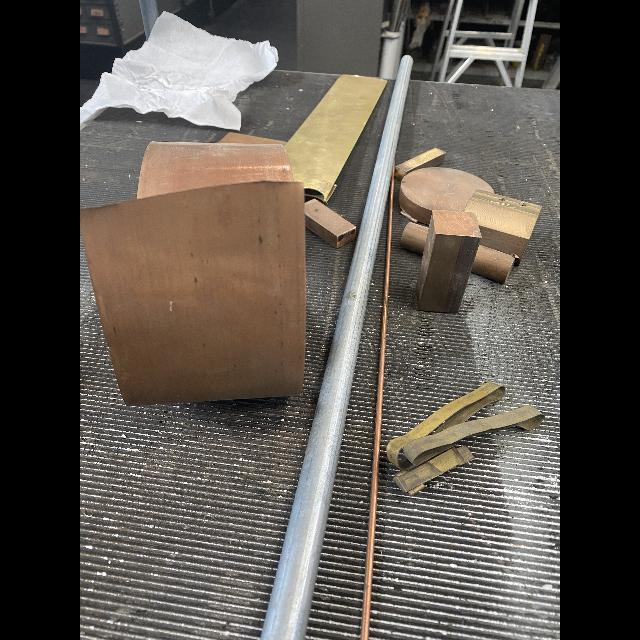Brass: (386, 381, 545, 495), (285, 75, 387, 203), (465, 190, 541, 264), (395, 148, 446, 180)
Copper: (80, 141, 306, 406), (360, 163, 395, 640), (417, 210, 481, 313), (399, 166, 493, 225), (305, 198, 356, 248), (472, 245, 514, 284), (219, 132, 286, 146), (400, 222, 428, 255)
Galvanized Steel: (261, 55, 414, 640)
